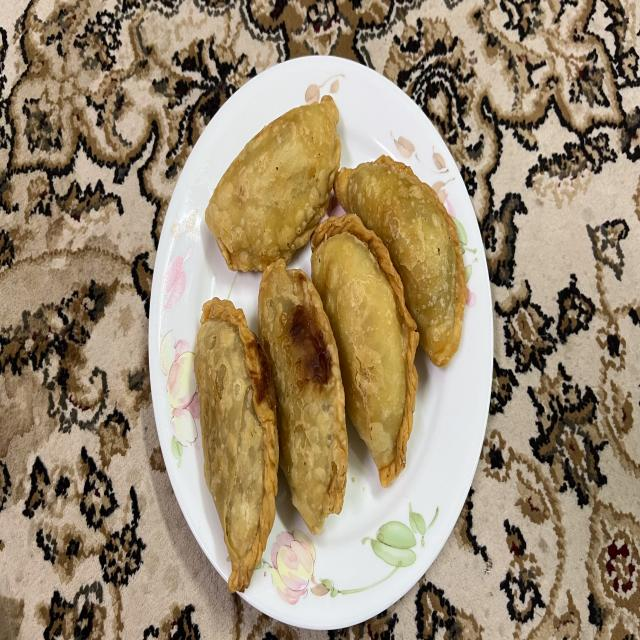karipap: (311, 213, 419, 487), (335, 156, 466, 367), (259, 260, 348, 533), (195, 300, 278, 591), (205, 96, 341, 271)
